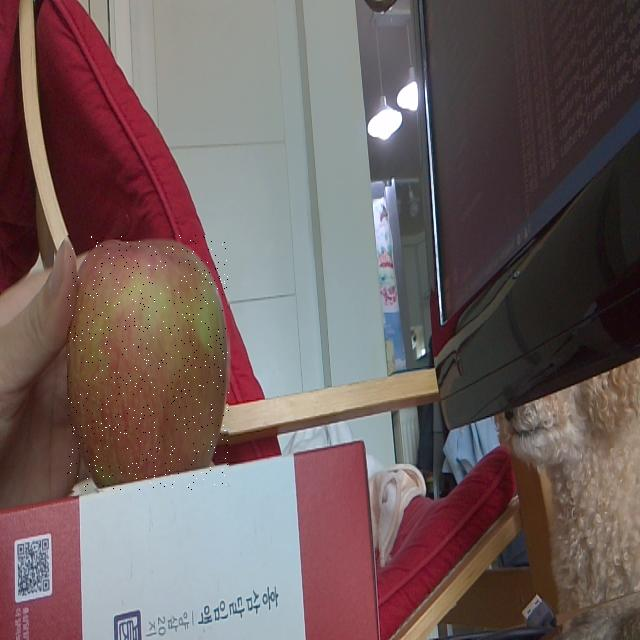apple: (68, 236, 230, 492)
